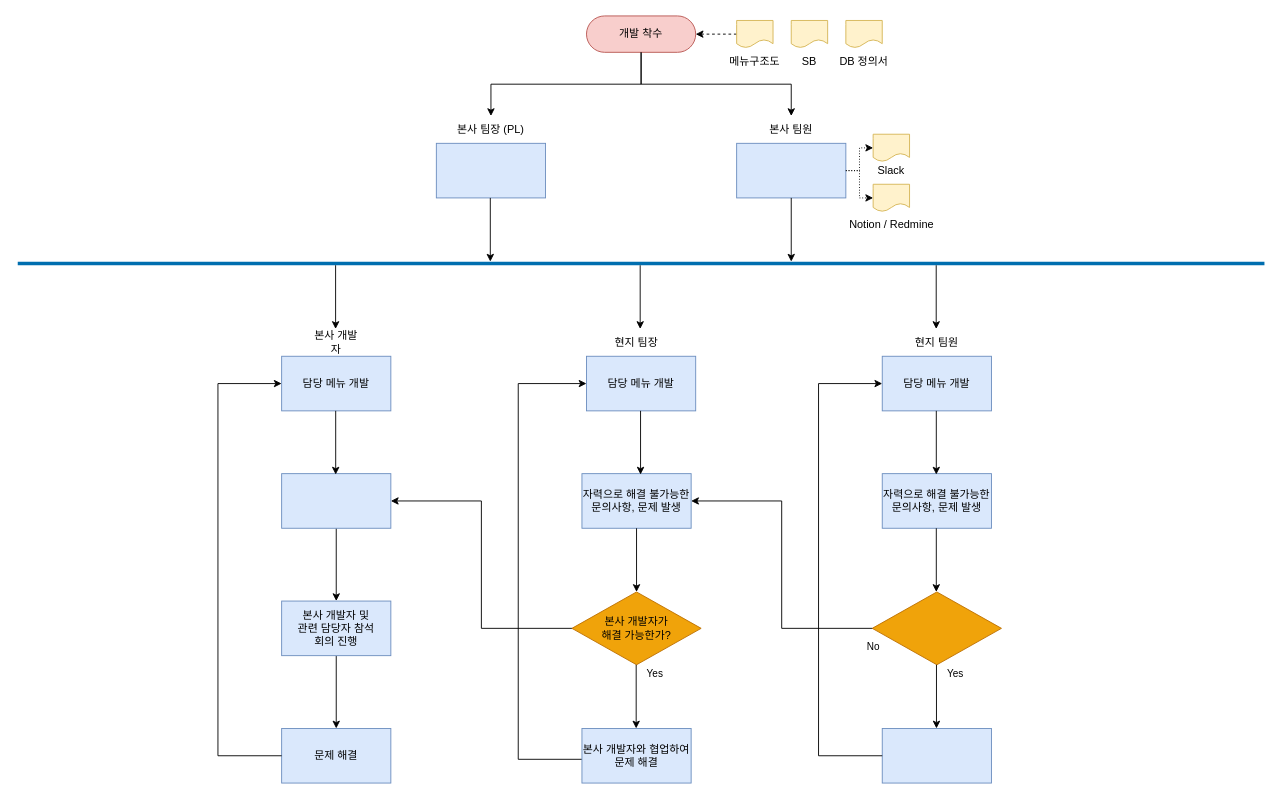
Image size: 1282x799. Some labels were removed from this diagram. The shapes that lost their labels are listed below. From the top down, each one's centre as x and y in pixels, then its label:
(490,170): 로그인 및 API 연동
(791,170): 협업 툴 구성
(336,500): 대학담당자 협의사항 혹은 기획자 문의사항 발생
(936,628): 현지 팀장이 해결 가능한가?
(936,755): 현지 팀장과 협업하여 문제 해결
